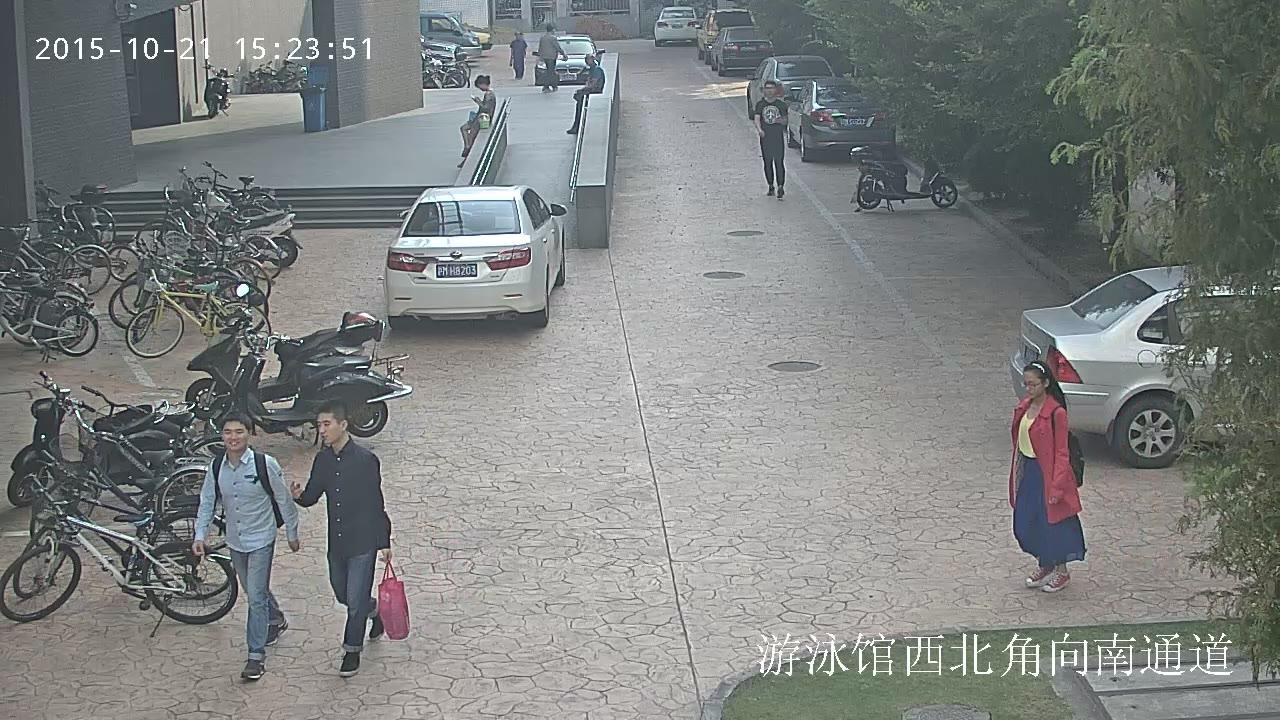person: (287, 397, 411, 675), (191, 409, 302, 683), (1007, 359, 1088, 592), (753, 81, 790, 200), (457, 73, 496, 171), (564, 53, 604, 133), (535, 22, 568, 93), (509, 30, 528, 78)
